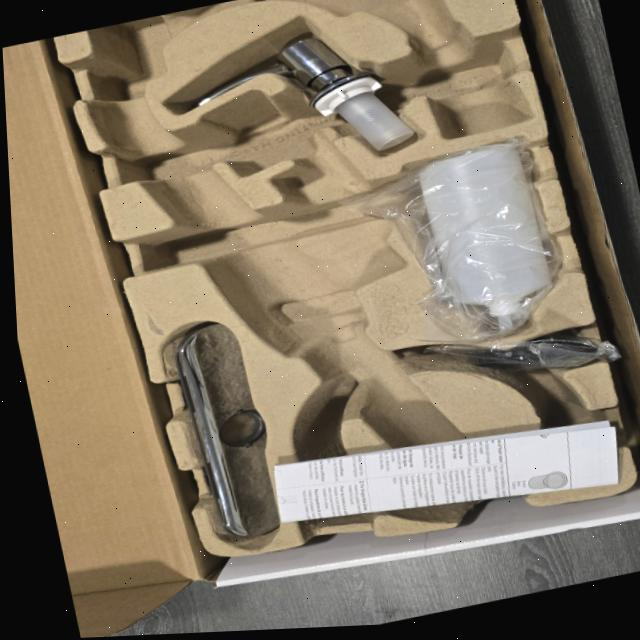1m: (95, 0, 531, 520), (300, 0, 534, 138)
2: (196, 35, 413, 151)
3: (419, 139, 552, 337)
4: (175, 321, 278, 536)
5m: (302, 457, 374, 512)
6m: (512, 410, 618, 480)
7: (426, 334, 618, 372)
8: (271, 418, 621, 523)
